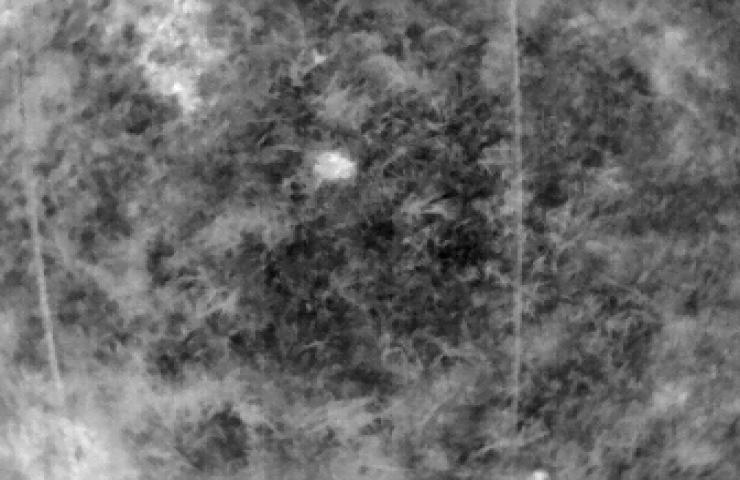landmines: (315, 152, 356, 184)
